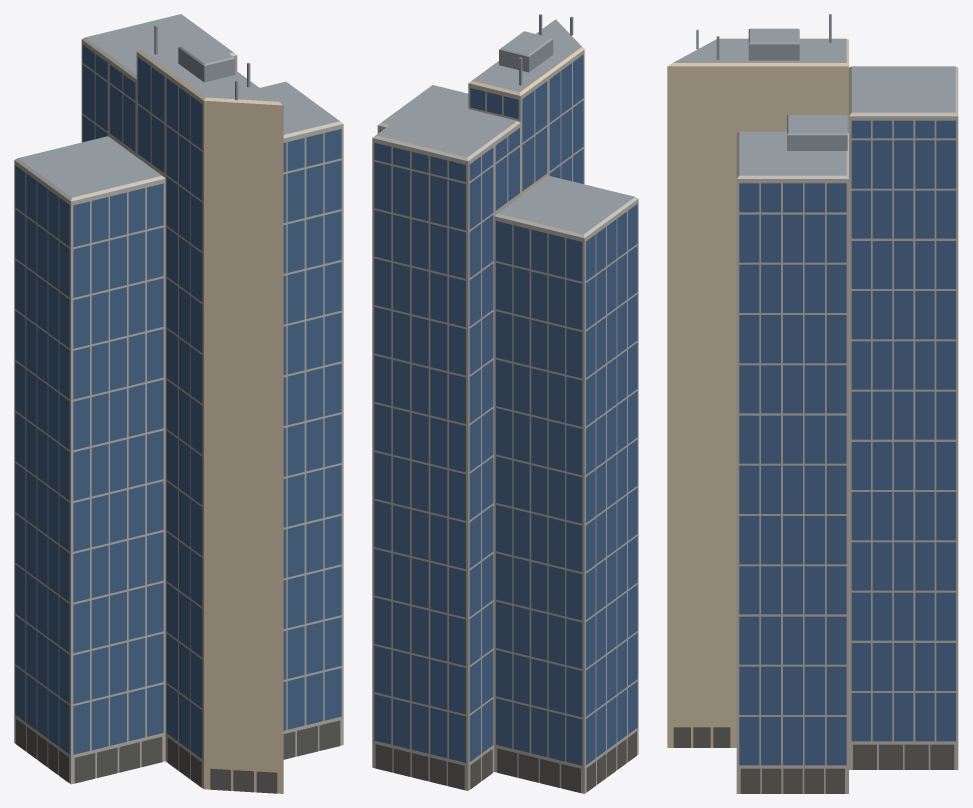
File: phx-chase-tower.glb
3 renders of one model, left to right at view 1: azimuth 30°, elevation 25°; view 2: azimuth 150°, elevation 25°; view 3: azimuth 270°, elevation 25°, orthographic. The views are drawn at different scales.
Parts seen in each view (by area): view 1: Chase Tower; view 2: Chase Tower; view 3: Chase Tower.
Part boxes in pixels (left/top/right/bottom): Chase Tower: left=14, top=14, right=343, bottom=793; Chase Tower: left=372, top=14, right=638, bottom=793; Chase Tower: left=667, top=14, right=958, bottom=793.
Bounding box in the file's own units: 54.9 × 154 × 57.05.
